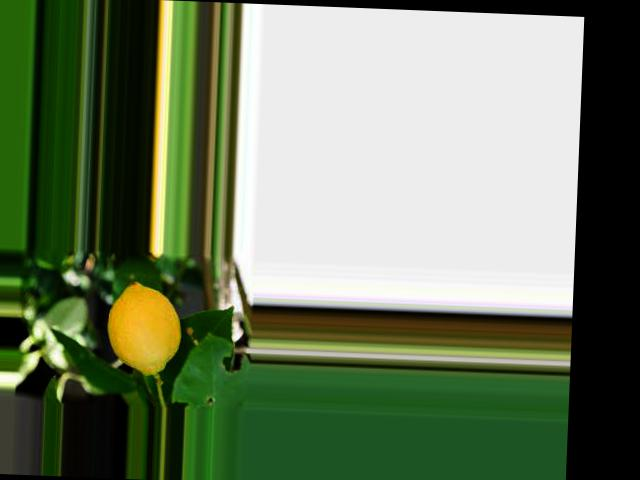lemon: (86, 267, 185, 382)
